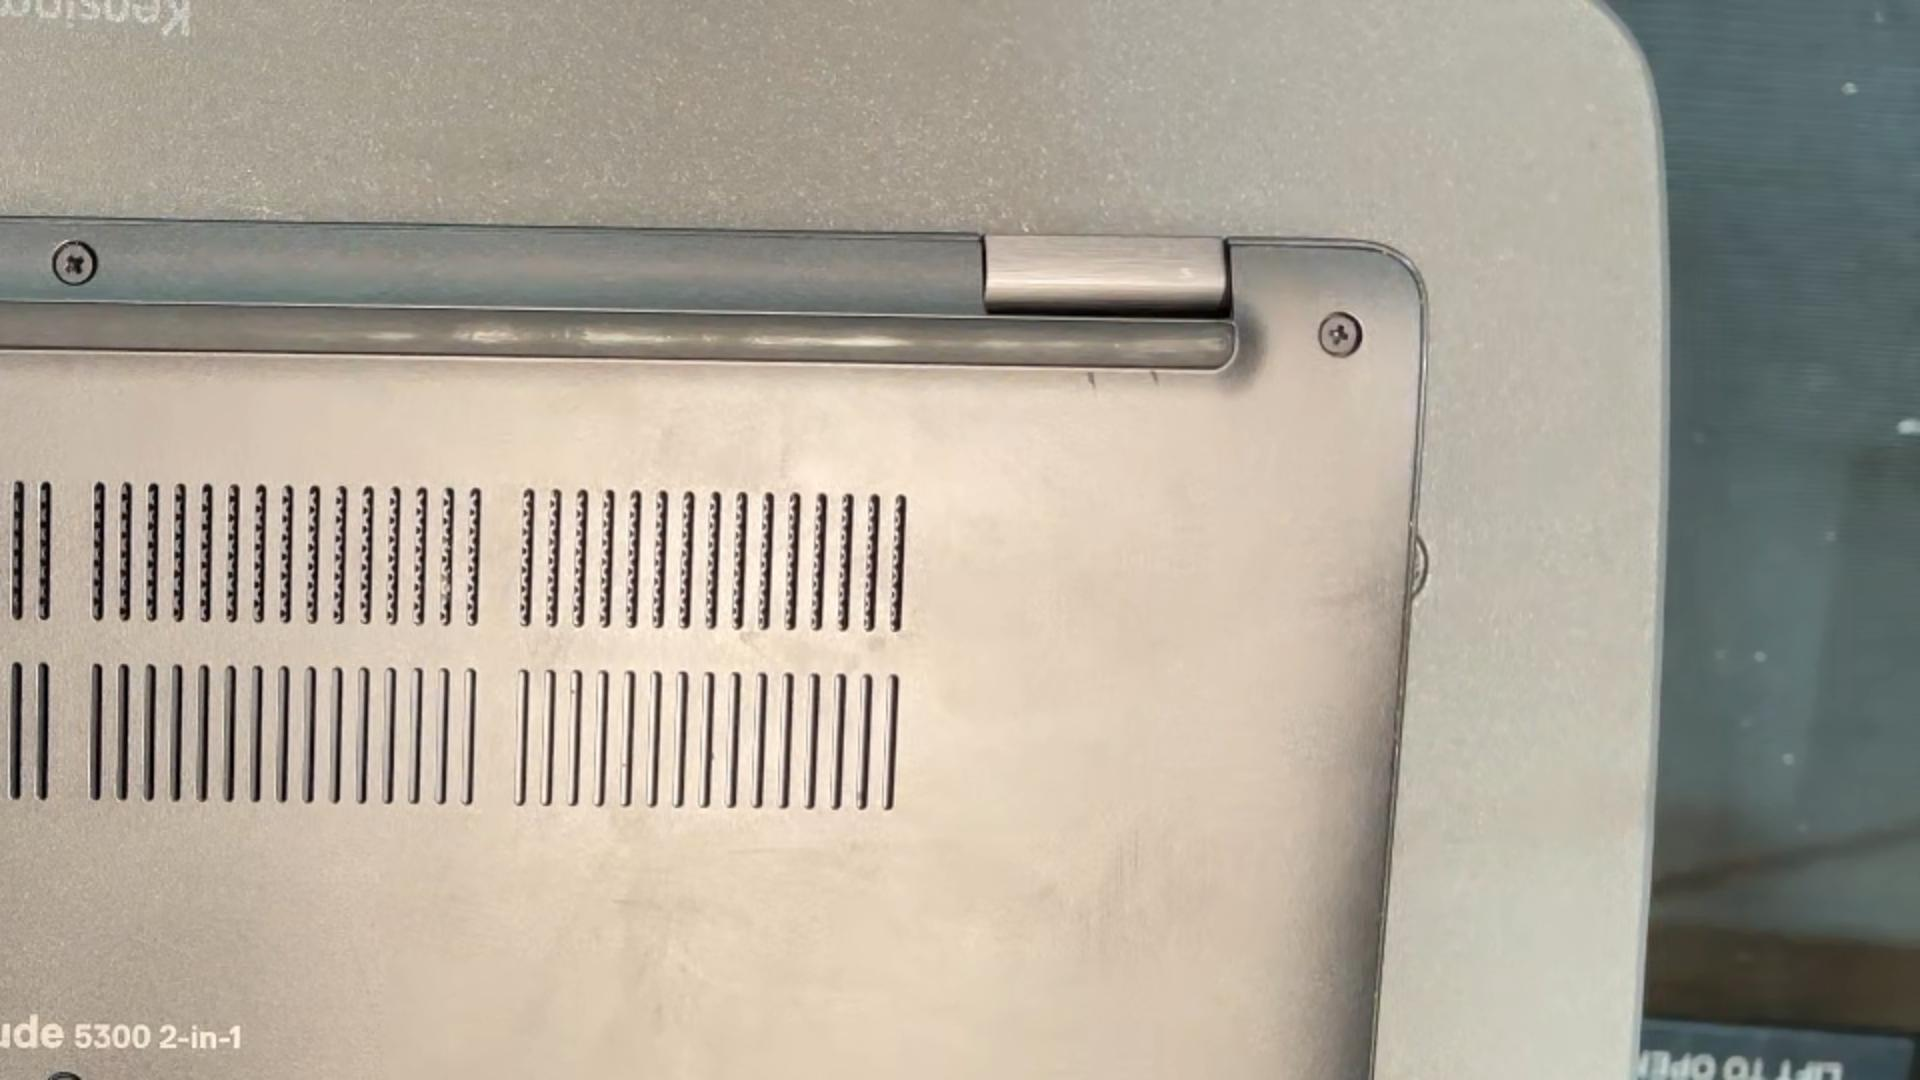scratches: (1084, 369, 1101, 396), (1147, 369, 1164, 388)
